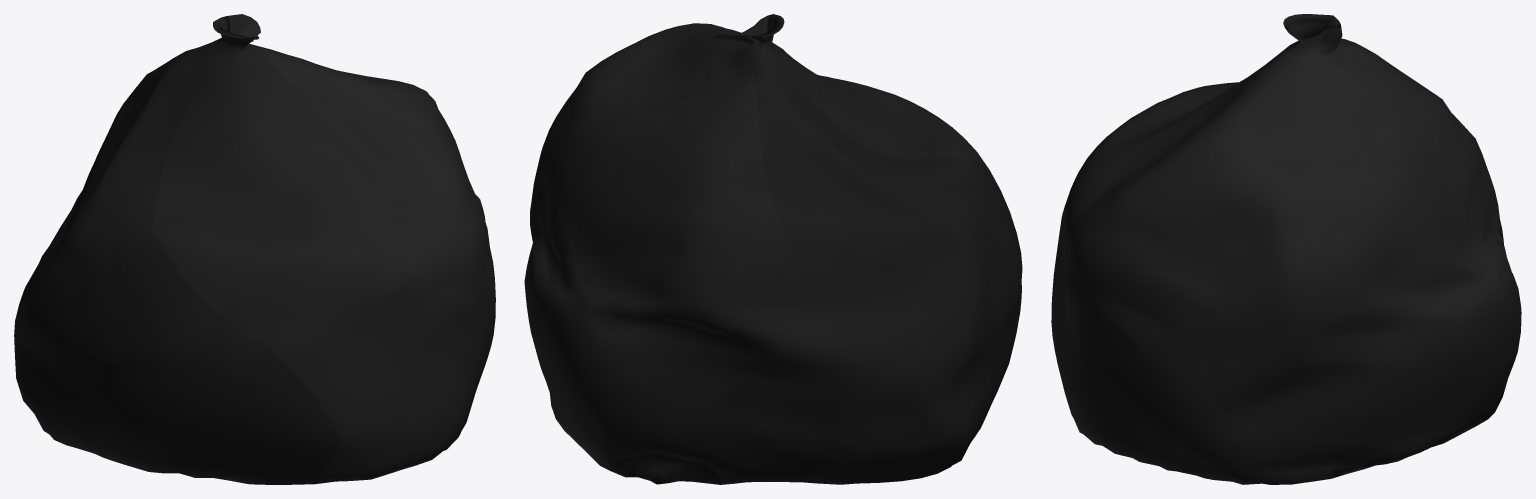
Rendered from garbage_bag_test_c2.fbx.
3 renders of one model, left to right at view 1: azimuth 30°, elevation 25°; view 2: azimuth 150°, elevation 25°; view 3: azimuth 270°, elevation 25°, orthographic. The views are drawn at different scales.
Visible parts, largest first — view 1: garbage bag; view 2: garbage bag; view 3: garbage bag.
Boxes of the visible parts, x1,y1,x2,y2 form: garbage bag: (14, 14, 495, 484); garbage bag: (524, 14, 1022, 484); garbage bag: (1051, 14, 1521, 484).
Bounding box in the file's own units: 155 × 133 × 151.
1 material, 1 textured.
